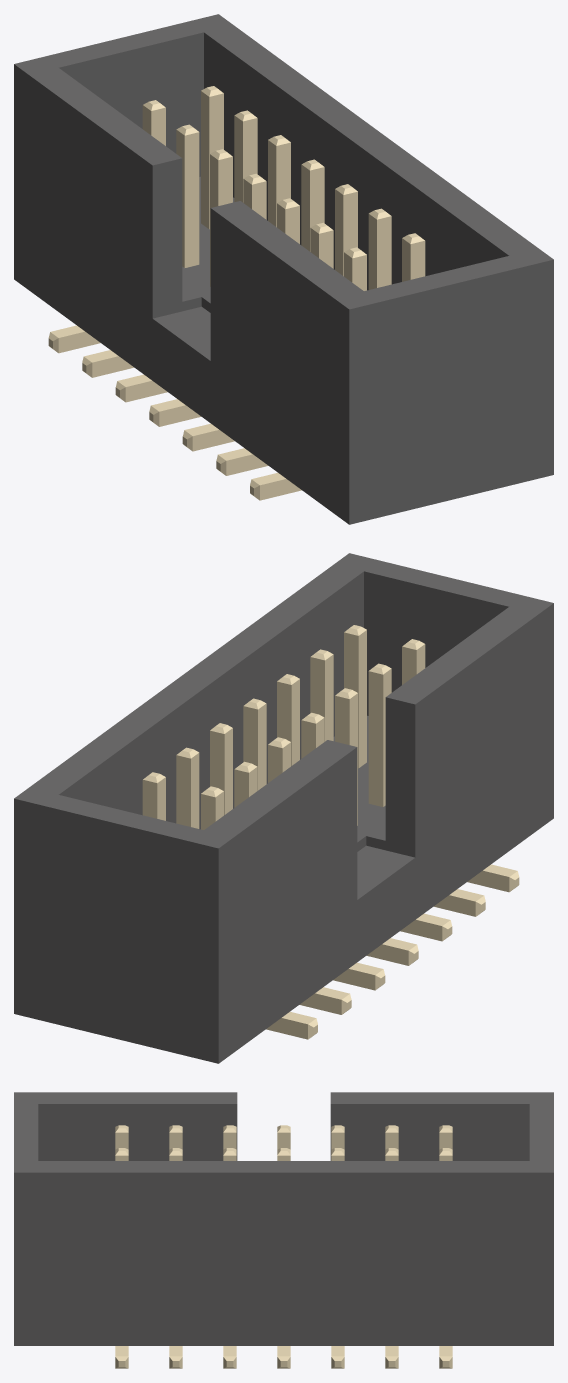
File: kc-idc-header_2x07_p2.54mm_vertical_smd.glb
The picture shows the model from 3 angles, top to bottom: view 1: azimuth 30°, elevation 25°; view 2: azimuth 150°, elevation 25°; view 3: azimuth 270°, elevation 25°; orthographic projection. The views are drawn at different scales.
Parts seen in each view (by area): view 1: 0.16666666666666666_0.16666666666666666_0.16666666666666666_, 0.8333333333333334_0.75_0.5_0.9; view 2: 0.16666666666666666_0.16666666666666666_0.16666666666666666_, 0.8333333333333334_0.75_0.5_0.9; view 3: 0.16666666666666666_0.16666666666666666_0.16666666666666666_, 0.8333333333333334_0.75_0.5_0.9.
Boxes of the visible parts, x1=… form: 0.16666666666666666_0.16666666666666666_0.16666666666666666_: x1=14, y1=14, x2=553, y2=524; 0.8333333333333334_0.75_0.5_0.9: x1=48, y1=86, x2=425, y2=500; 0.16666666666666666_0.16666666666666666_0.16666666666666666_: x1=14, y1=553, x2=553, y2=1063; 0.8333333333333334_0.75_0.5_0.9: x1=142, y1=625, x2=519, y2=1039; 0.16666666666666666_0.16666666666666666_0.16666666666666666_: x1=14, y1=1092, x2=553, y2=1345; 0.8333333333333334_0.75_0.5_0.9: x1=115, y1=1125, x2=452, y2=1368.
Bounding box in the file's own units: 1.16 × 0.964 × 2.54.
